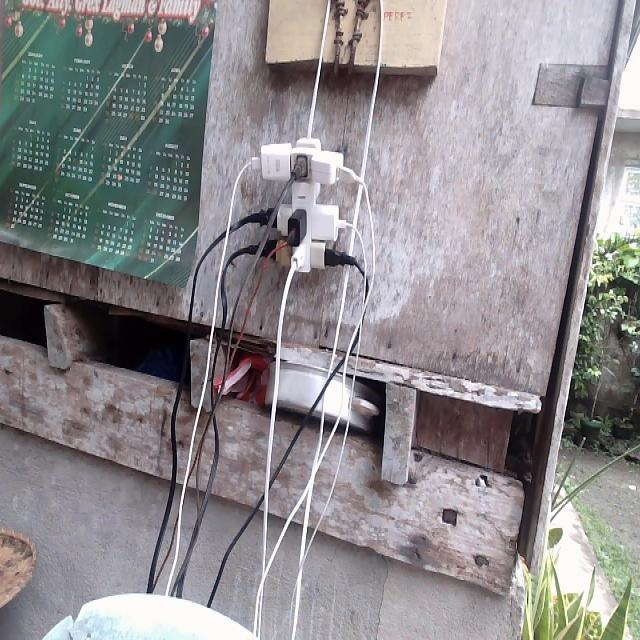-: (243, 135, 356, 273)
